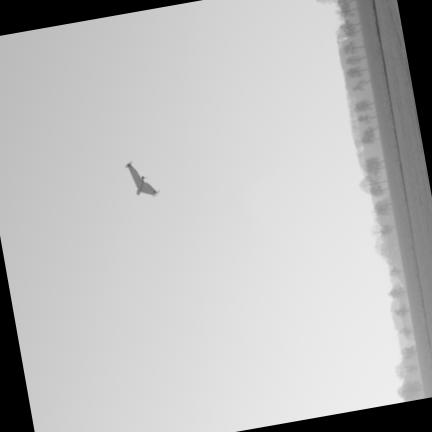Shahed: (126, 162, 159, 196)
